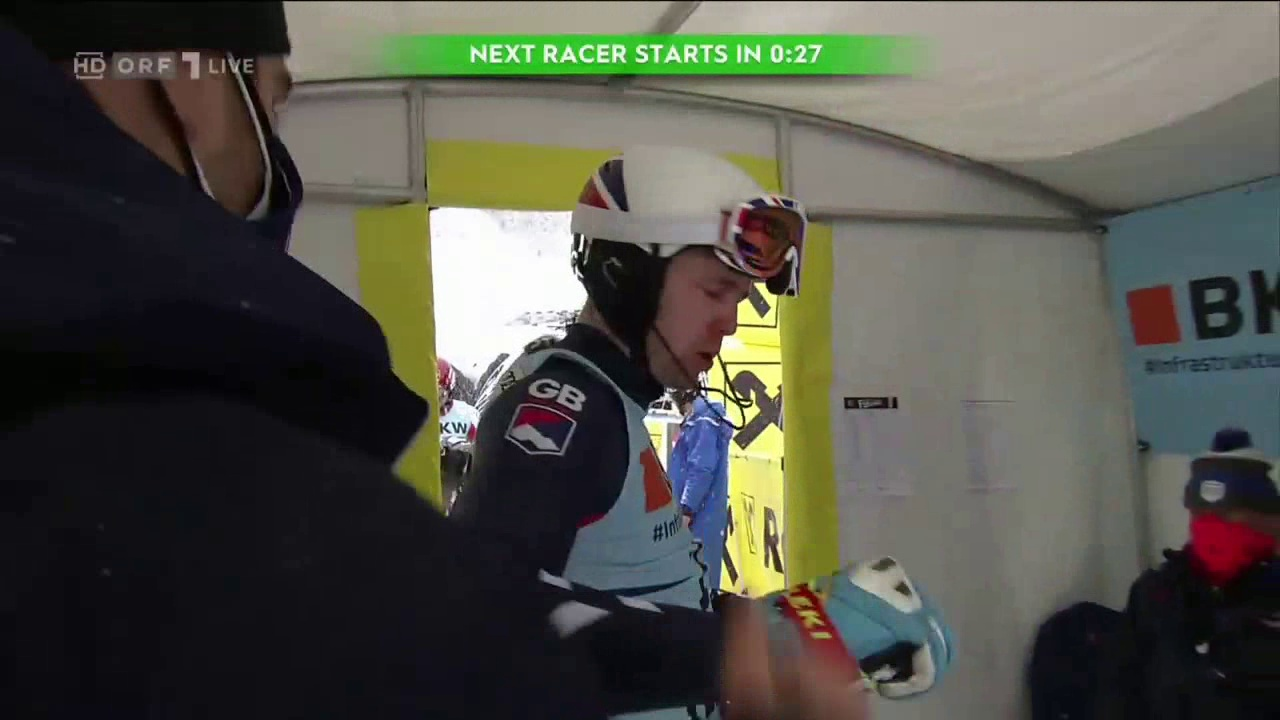raiffeisen: (718, 367, 791, 455)
